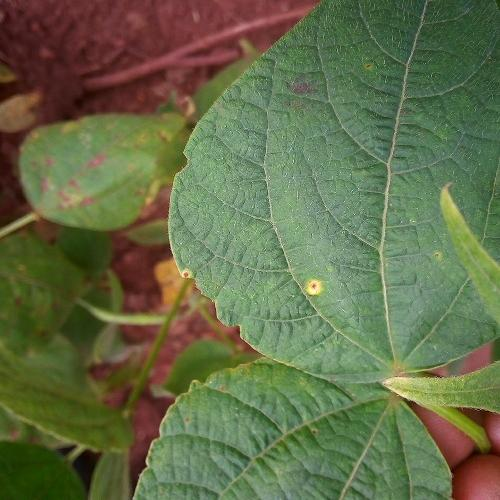hawar: (101, 140, 256, 354), (269, 229, 366, 333)
